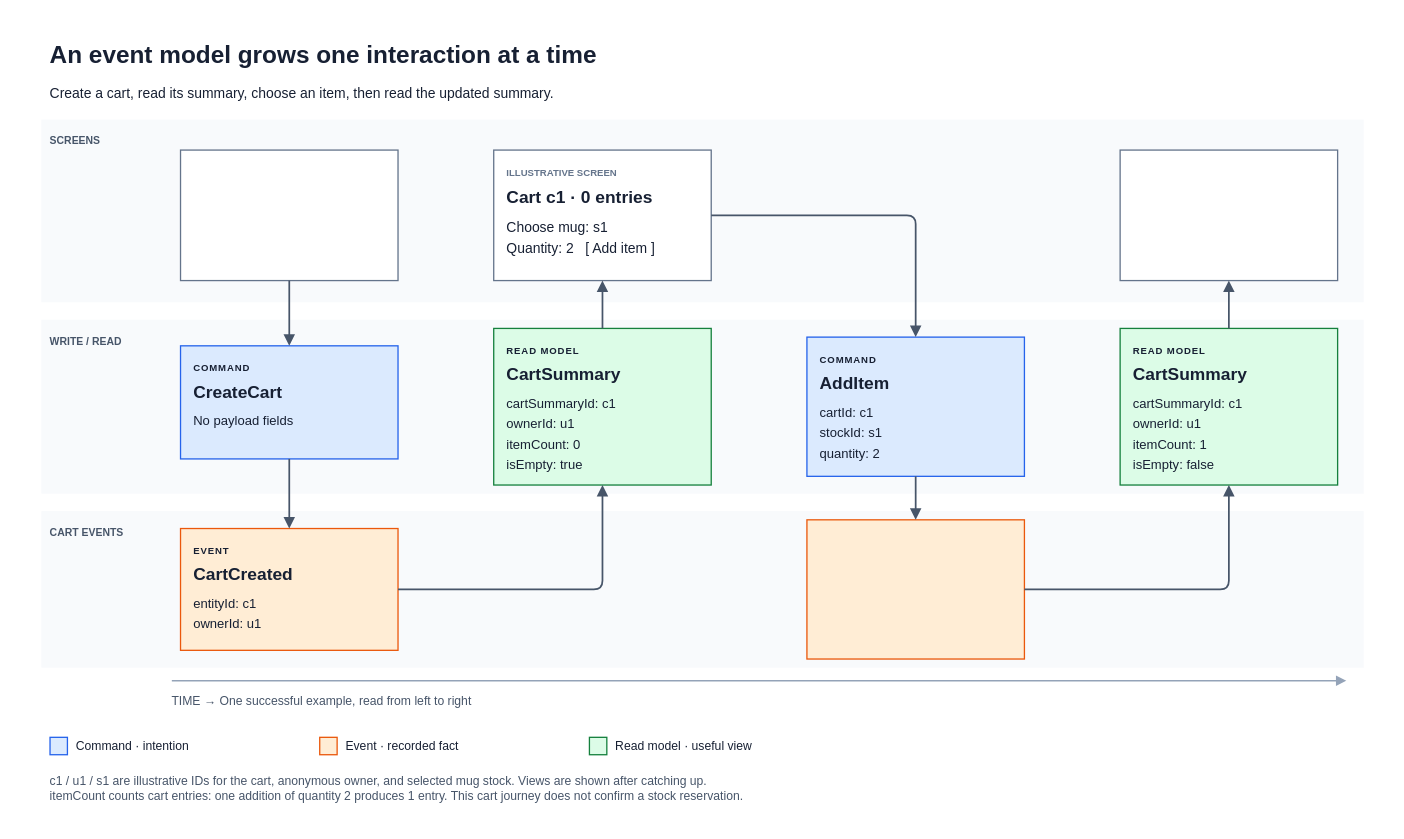
Image size: 1404x839. Some labels were removed from this diagram. The centre of each missing label's shape, as x and y in pixels:
EVENT ItemAdded entityId: c1 stockId: s1 quantity: 2: the point at 915,589
ILLUSTRATIVE SCREEN Start a cart Create cart: the point at 288,215
ILLUSTRATIVE SCREEN Your cart · c1 1 entry Your cart is no longer empty.: the point at 1228,215
